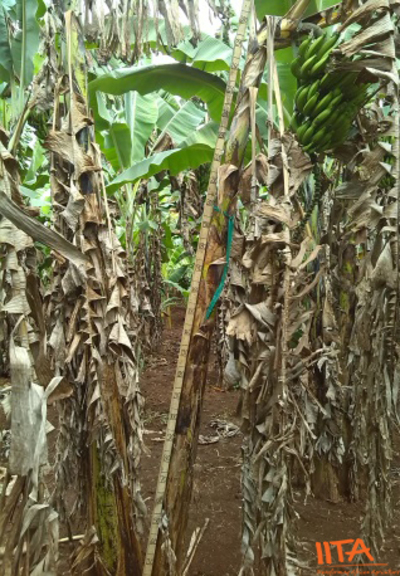bananaHand: (288, 26, 375, 152)
